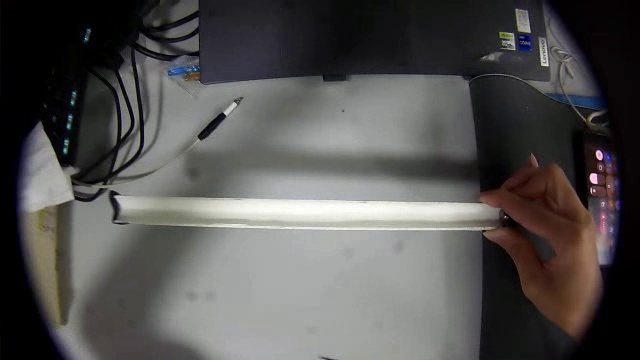gangzhu: (572, 137, 625, 191)
